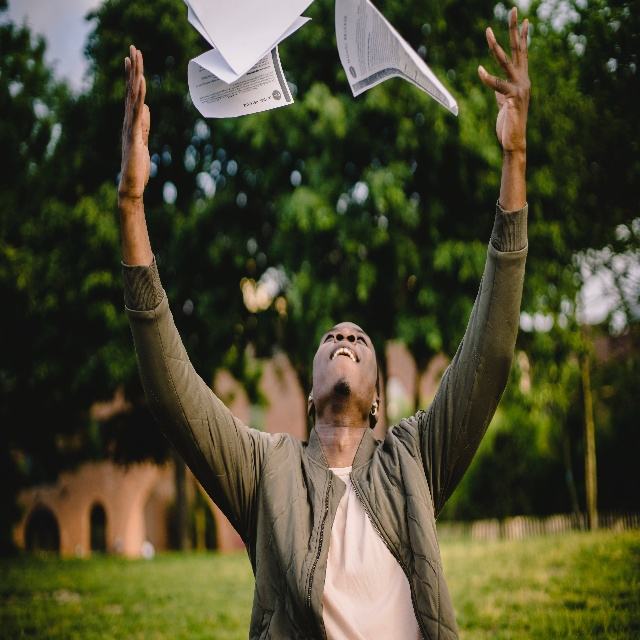Sin_guantes: (480, 0, 530, 149), (114, 43, 152, 200)
